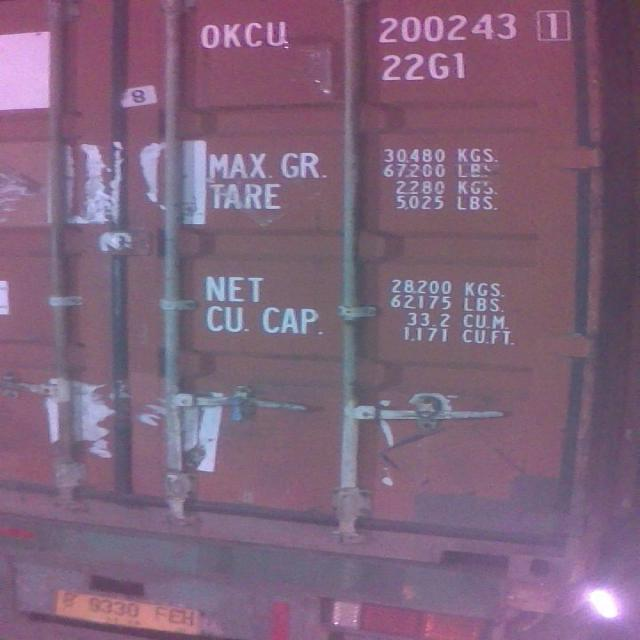seal: (228, 396, 250, 421)
